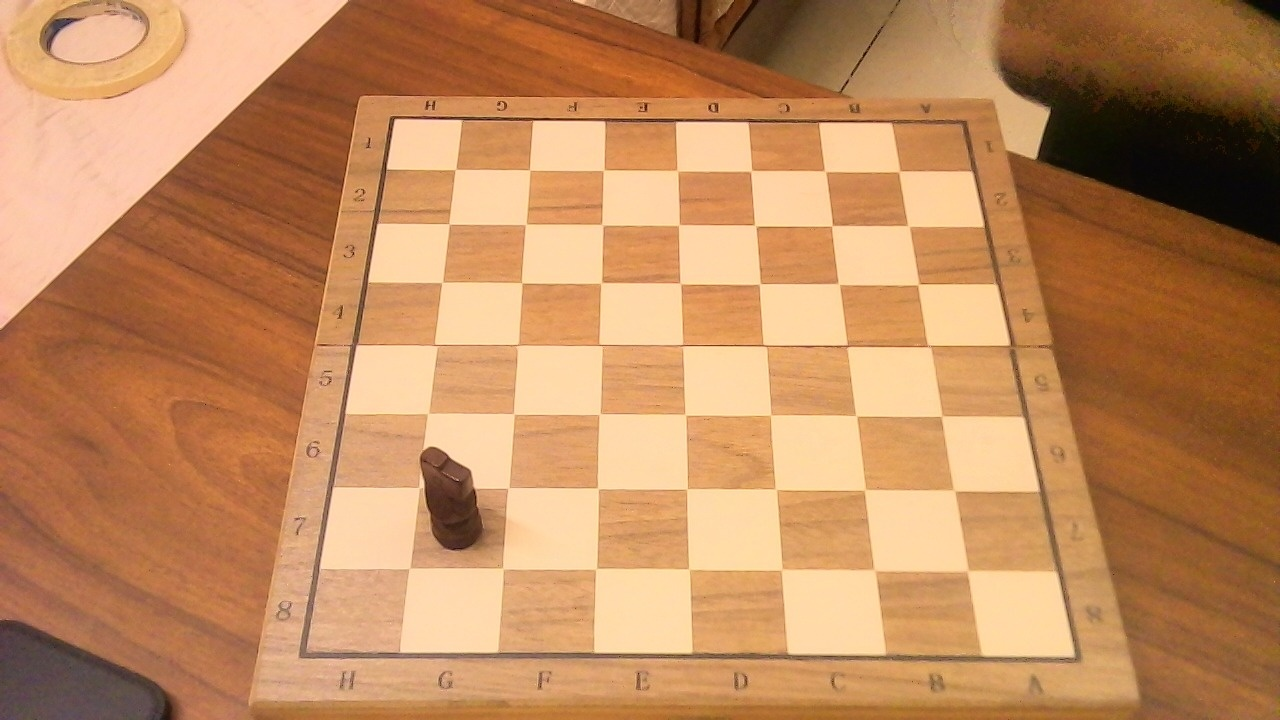n: (414, 434, 495, 553)
